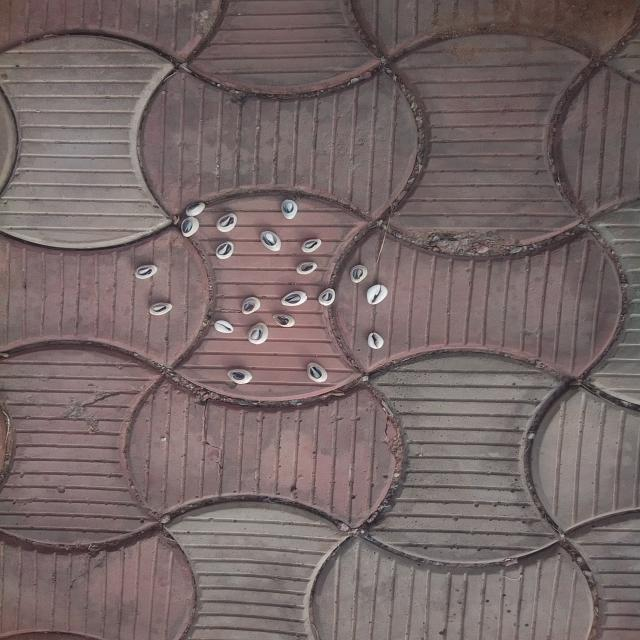facedown: (280, 288, 310, 309), (246, 321, 269, 346), (224, 367, 254, 386), (305, 361, 329, 384), (259, 230, 284, 252), (213, 212, 239, 232), (213, 240, 237, 261), (238, 295, 262, 316), (292, 259, 320, 277), (297, 237, 325, 254), (270, 312, 298, 329), (178, 217, 200, 238), (348, 264, 370, 285), (131, 264, 159, 280), (280, 198, 300, 220), (147, 301, 174, 317), (318, 284, 336, 307), (185, 198, 205, 216)
faceup: (364, 284, 392, 306), (364, 331, 387, 352), (214, 318, 236, 335)
